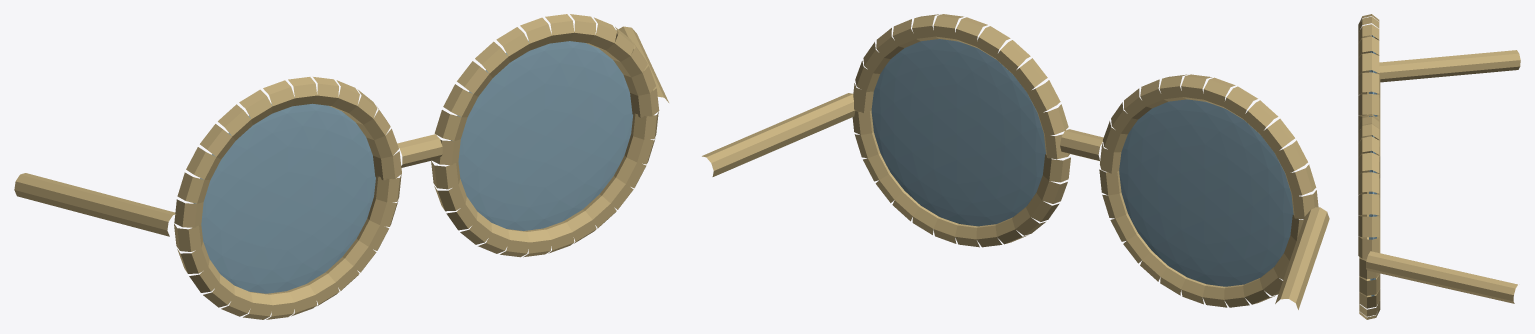
Rendered from oculos_redondos.glb.
3 views of the same model, side by side, from view 1: azimuth 30°, elevation 25°; view 2: azimuth 150°, elevation 25°; view 3: azimuth 270°, elevation 25° (orthographic). The views are drawn at different scales.
Visible parts, largest first — view 1: lente_0, lente_1, haste-1, ponte, armação_110, armação_111, armação_010, armação_011, armação_09, armação_19, armação_112, armação_012 (+49 smaller); view 2: lente_0, lente_1, haste1, haste-1, ponte, armação_110, armação_010, armação_111, armação_011, armação_09, armação_012, armação_19 (+43 smaller); view 3: haste1, haste-1, armação_11, armação_02, armação_12, armação_03, armação_13, armação_14, armação_04, armação_10, armação_126, armação_05 (+9 smaller).
Boxes of the visible parts, left/top/right/bottom form: lente_0: left=193, top=97, right=375, bottom=293; lente_1: left=451, top=40, right=632, bottom=230; haste-1: left=14, top=173, right=175, bottom=236; ponte: left=397, top=134, right=442, bottom=167; armação_110: left=457, top=61, right=492, bottom=96; armação_111: left=443, top=84, right=477, bottom=117; armação_010: left=200, top=124, right=235, bottom=159; armação_011: left=186, top=147, right=220, bottom=180; armação_09: left=218, top=104, right=252, bottom=140; armação_19: left=475, top=41, right=509, bottom=77; armação_112: left=434, top=110, right=467, bottom=140; armação_012: left=177, top=172, right=210, bottom=203; lente_0: left=1119, top=99, right=1293, bottom=286; lente_1: left=871, top=39, right=1045, bottom=226; haste1: left=702, top=93, right=859, bottom=176; haste-1: left=1275, top=207, right=1329, bottom=309; ponte: left=1060, top=129, right=1103, bottom=161; armação_110: left=1013, top=58, right=1047, bottom=92; armação_010: left=1261, top=118, right=1294, bottom=153; armação_111: left=1027, top=80, right=1060, bottom=113; armação_011: left=1275, top=140, right=1307, bottom=173; armação_09: left=1242, top=100, right=1278, bottom=134; armação_012: left=1285, top=164, right=1316, bottom=196; armação_19: left=995, top=40, right=1030, bottom=73; haste1: left=1366, top=251, right=1517, bottom=303; haste-1: left=1379, top=50, right=1520, bottom=82; armação_11: left=1358, top=216, right=1379, bottom=237; armação_02: left=1358, top=94, right=1379, bottom=115; armação_12: left=1358, top=194, right=1379, bottom=215; armação_03: left=1358, top=72, right=1379, bottom=94; armação_13: left=1358, top=172, right=1379, bottom=194; armação_14: left=1358, top=152, right=1379, bottom=175; armação_04: left=1358, top=52, right=1379, bottom=75; armação_10: left=1358, top=236, right=1379, bottom=258; armação_126: left=1359, top=274, right=1380, bottom=295; armação_05: left=1358, top=36, right=1379, bottom=57.
Bounding box in the file's own units: 0.0062 × 0.00223 × 0.00176.
